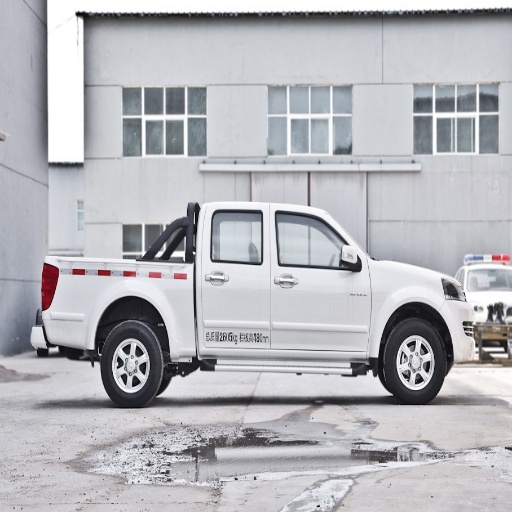back_right_door: (201, 210, 274, 345)
front_right_door: (271, 210, 371, 348)
trunk: (48, 266, 192, 358)
